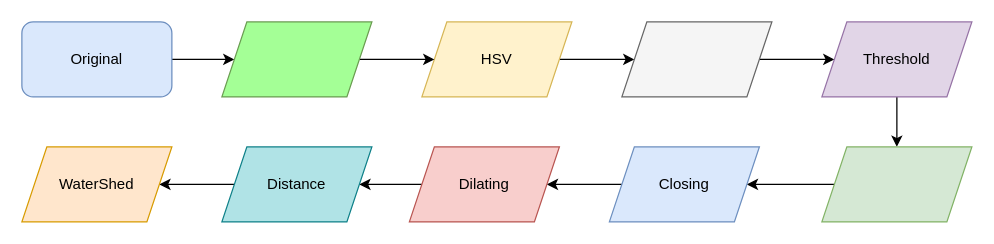
Image size: 994x244. Some labels were removed from this diagram. Each missing label, with the centre of its shape:
Gray: point (696, 59)
Opening: point (896, 184)
Resize: point (296, 59)
